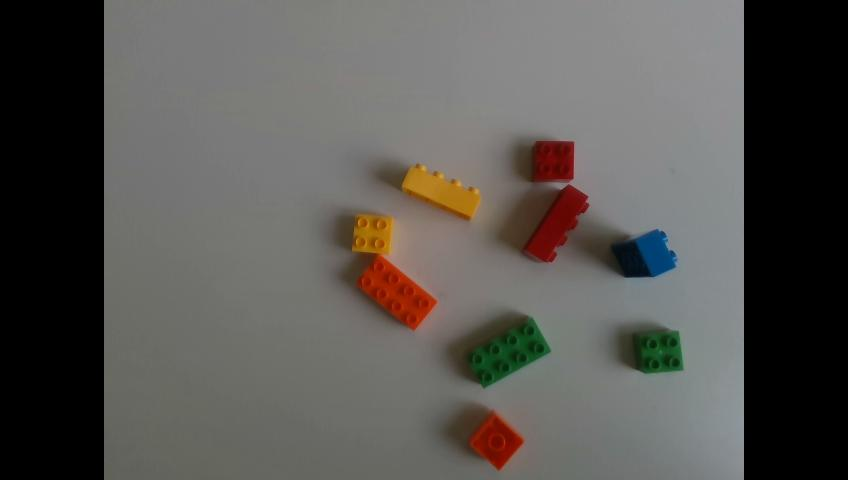2x2_green: (636, 330, 684, 371)
2x2_orange: (466, 407, 523, 471)
2x2_red: (532, 140, 575, 182)
2x2_yellow: (352, 212, 393, 252)
4x2_blue: (612, 228, 676, 275)
4x2_green: (461, 318, 551, 386)
4x2_orange: (356, 255, 435, 329)
4x2_red: (521, 185, 587, 260)
4x2_yellow: (404, 164, 479, 218)
